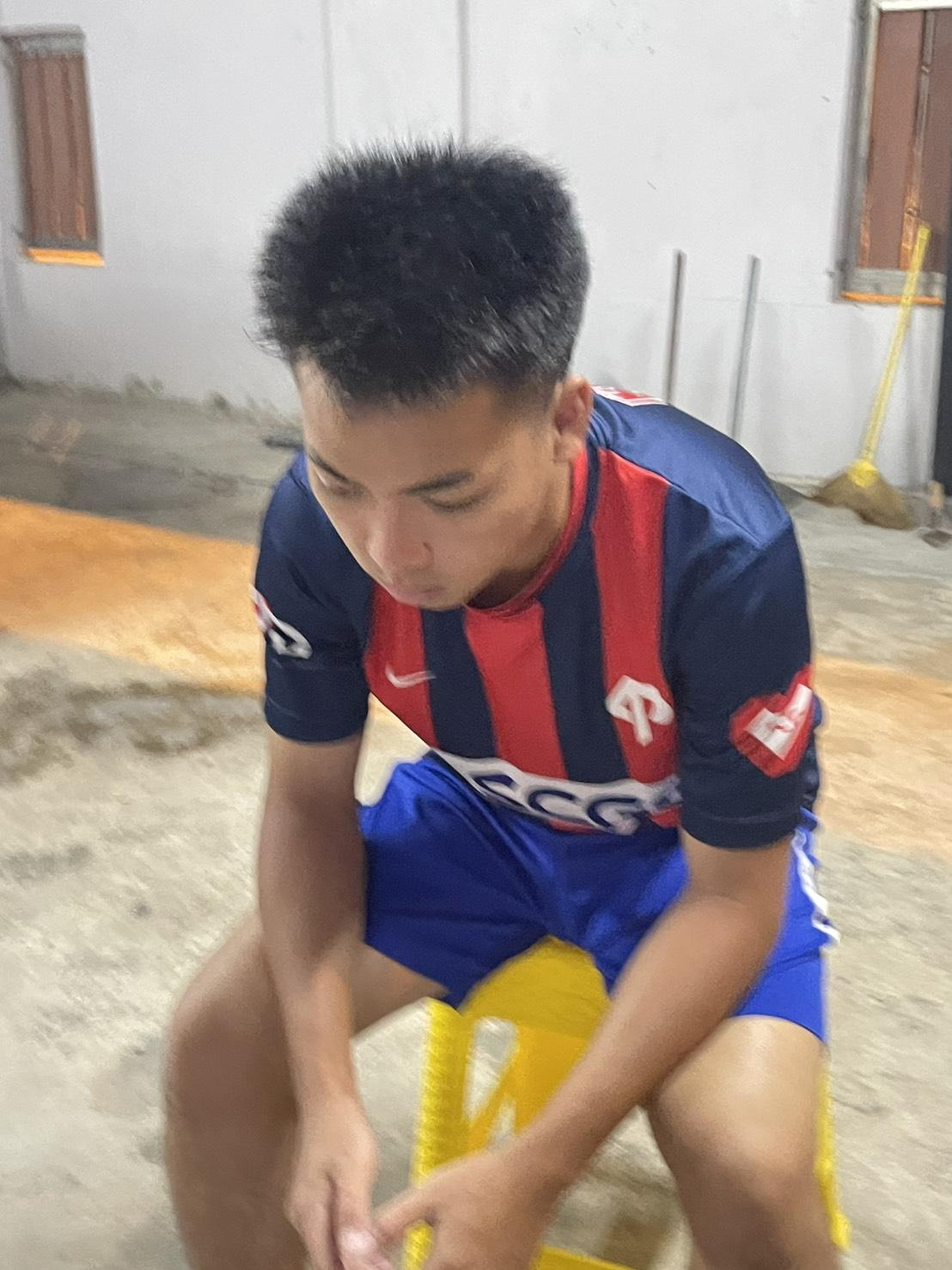BadPosture: (253, 144, 820, 847)
